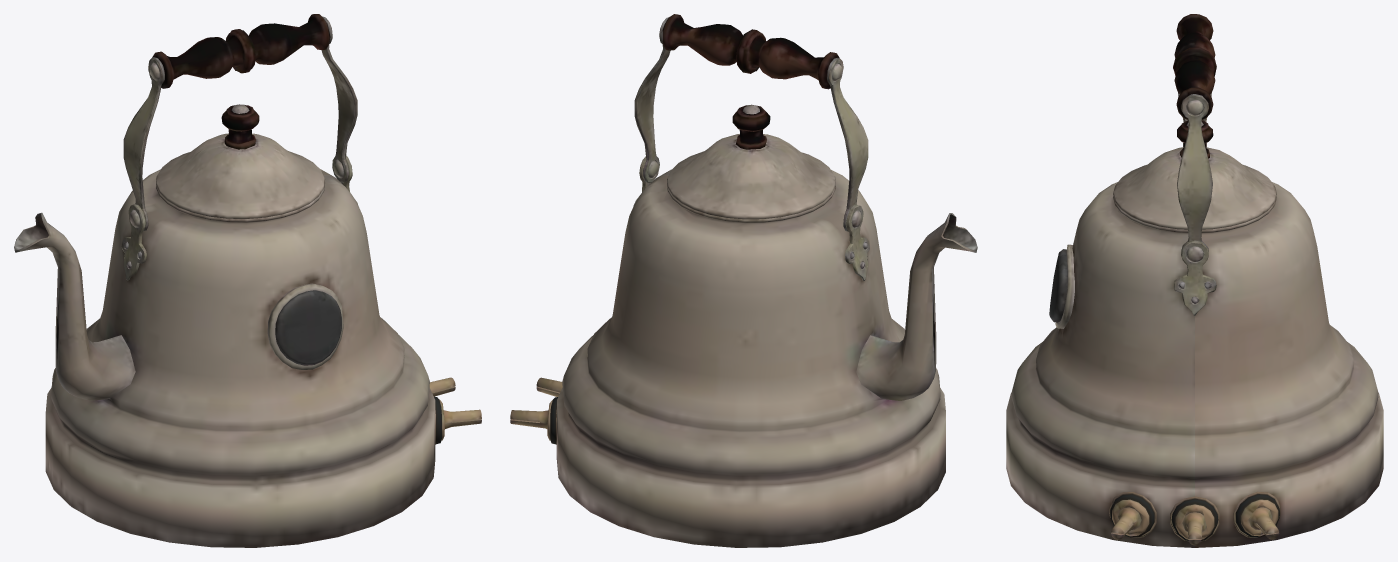
File: kettle.glb
The picture shows the model from 3 angles, left to right: view 1: azimuth 30°, elevation 25°; view 2: azimuth 150°, elevation 25°; view 3: azimuth 270°, elevation 25°; orthographic projection. The views are drawn at different scales.
Visible parts, largest first — view 1: vintage_electric_kettle; view 2: vintage_electric_kettle; view 3: vintage_electric_kettle.
Boxes of the visible parts, <box> form: vintage_electric_kettle: <box>14,14,481,547</box>; vintage_electric_kettle: <box>510,14,977,547</box>; vintage_electric_kettle: <box>1006,14,1383,547</box>.
Size of the model in its own units: 0.3209 by 0.3044 by 0.2478.
2 materials, 2 textured.
